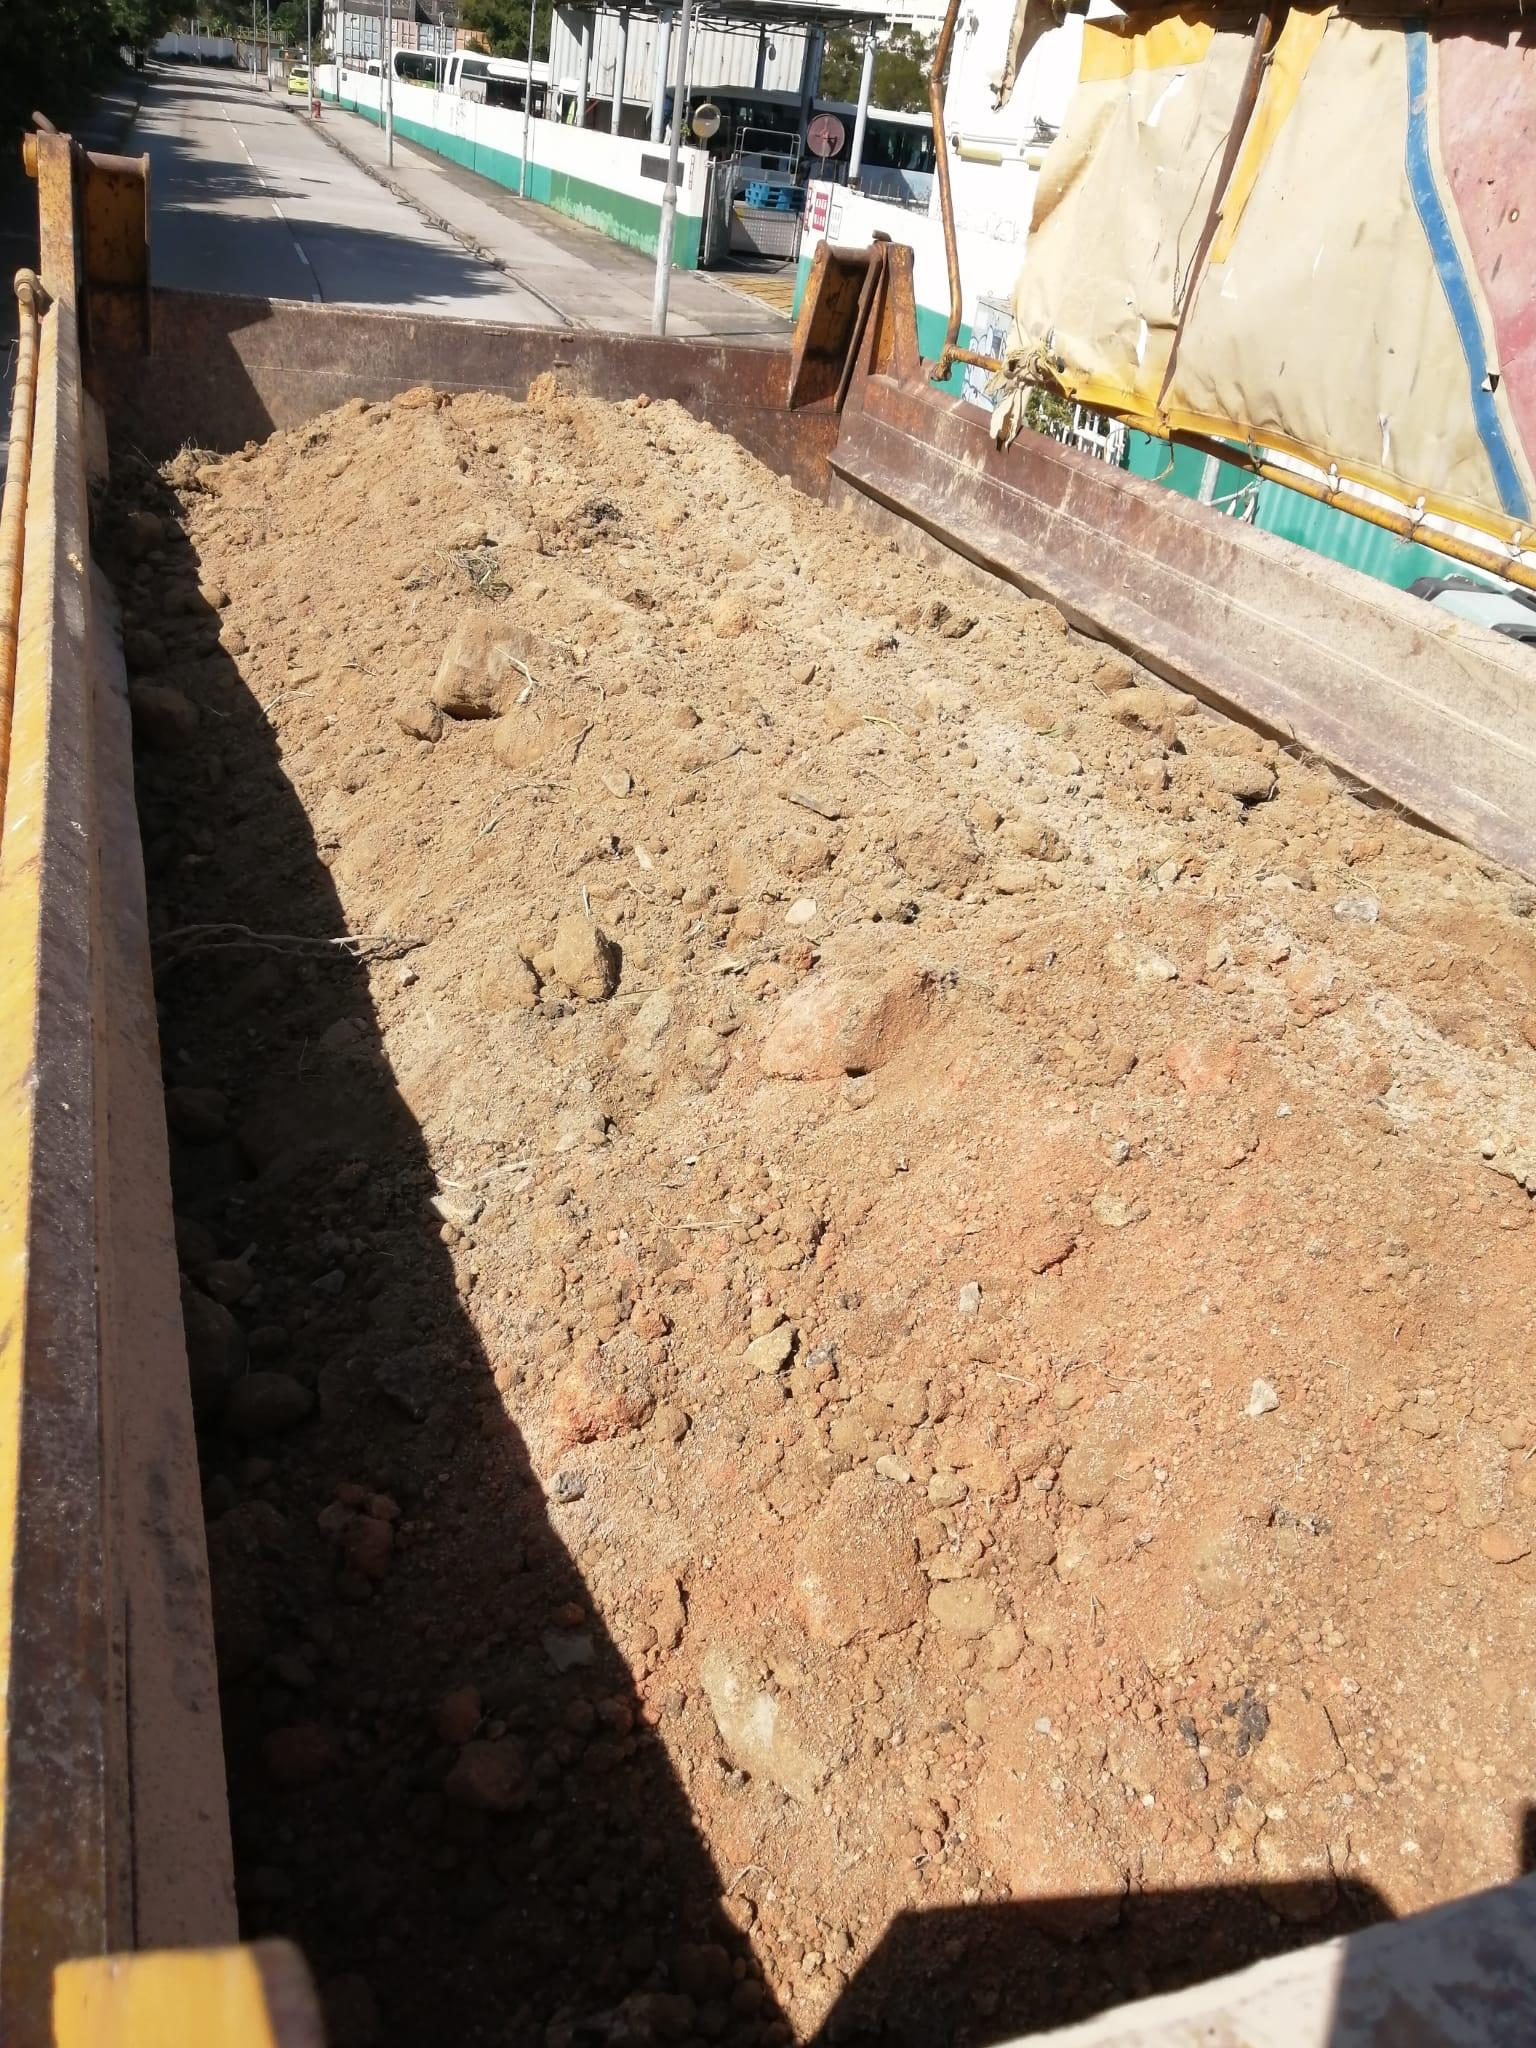dirt: (117, 370, 1533, 2043)
